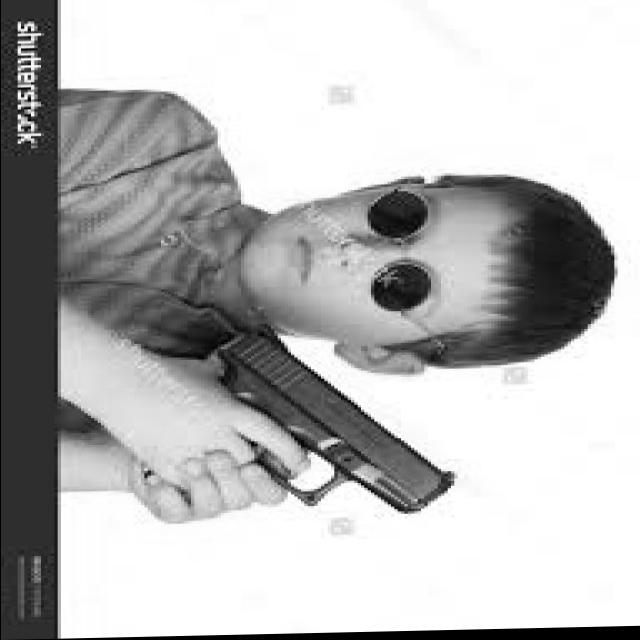handgun: (210, 324, 454, 520)
